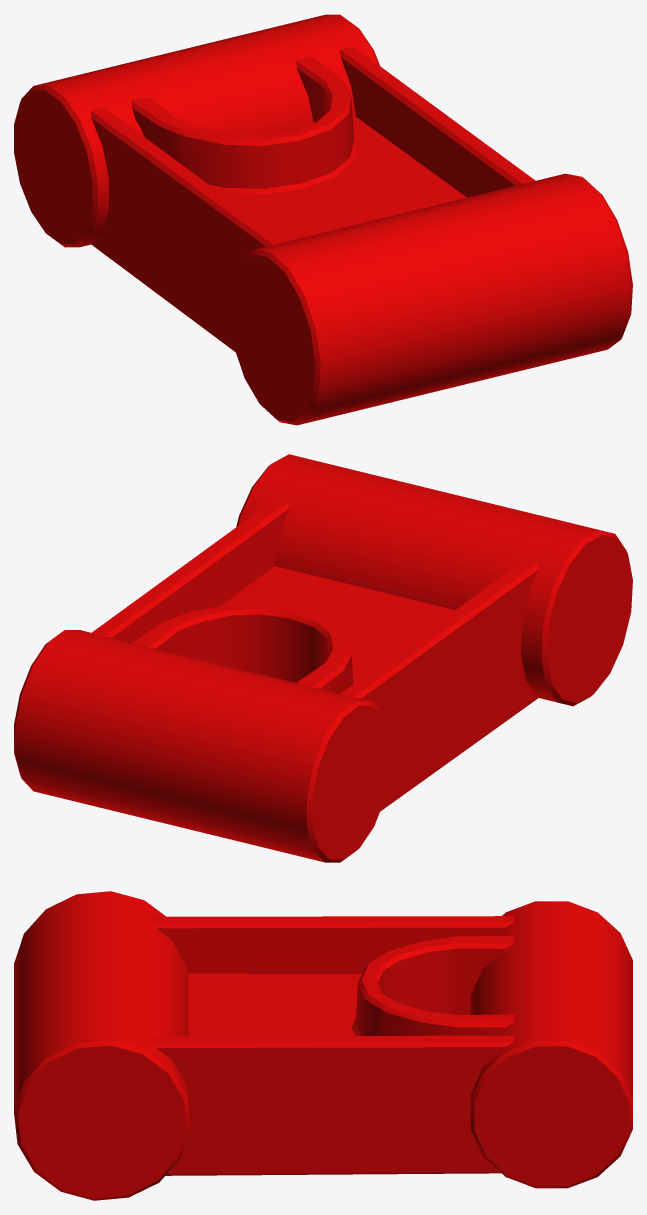
Rendered from ExcavatorMachine_Linkage01_01a_snaps005.fbx.
The picture shows the model from 3 angles, top to bottom: view 1: azimuth 30°, elevation 25°; view 2: azimuth 150°, elevation 25°; view 3: azimuth 270°, elevation 25°; orthographic projection.
Visible parts, largest first — view 1: ExcavatorMachine_Linkage01_01a_snaps005; view 2: ExcavatorMachine_Linkage01_01a_snaps005; view 3: ExcavatorMachine_Linkage01_01a_snaps005.
Part boxes in pixels (bbox=[...]): ExcavatorMachine_Linkage01_01a_snaps005: bbox=[14, 14, 632, 425]; ExcavatorMachine_Linkage01_01a_snaps005: bbox=[14, 454, 632, 862]; ExcavatorMachine_Linkage01_01a_snaps005: bbox=[14, 891, 632, 1200].
Bounding box in the file's own units: 41.77 × 20.53 × 71.72.
